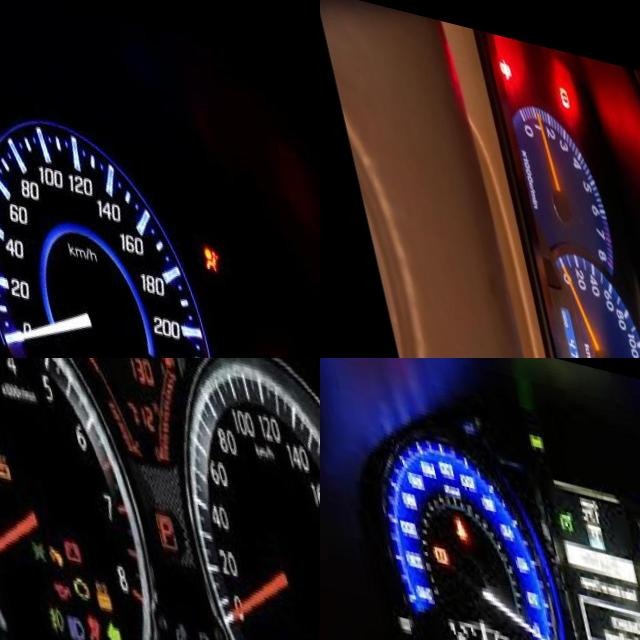Seat Belt: (443, 506, 458, 532)
